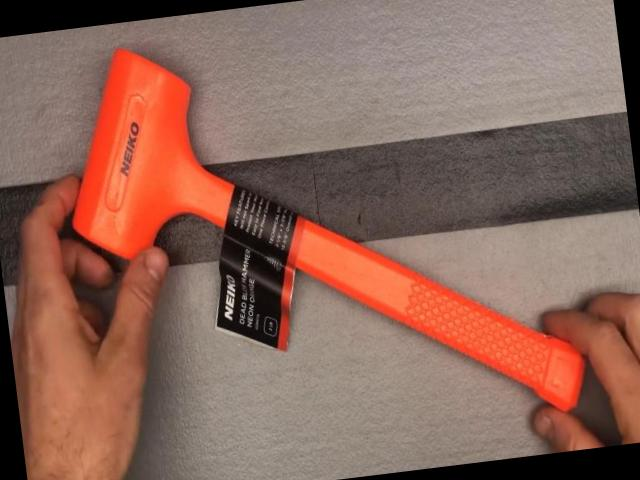hammer: (49, 0, 591, 468)
